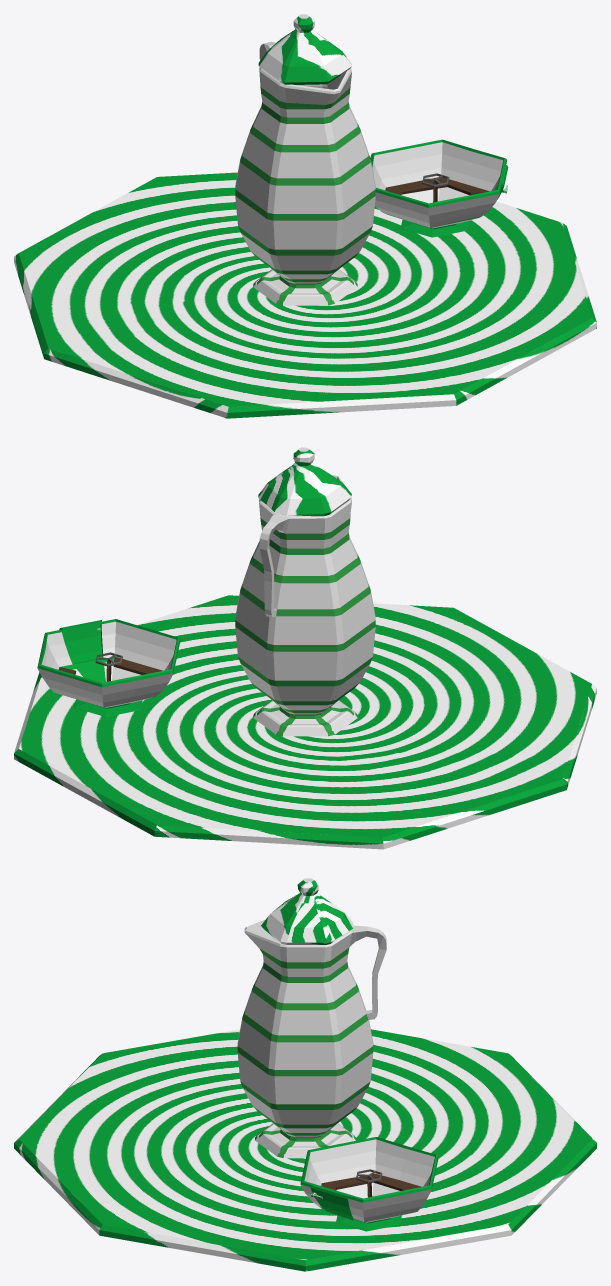
File: Cups.fbx
3 views of the same model, one above another, from view 1: azimuth 30°, elevation 25°; view 2: azimuth 150°, elevation 25°; view 3: azimuth 270°, elevation 25° (orthographic). The views are drawn at different scales.
Parts seen in each view (by area): view 1: Circle, Circle.003, Circle.004; view 2: Circle, Circle.003, Circle.004; view 3: Circle, Circle.003, Circle.004.
Boxes of the visible parts, box(x1,y1,x2,y2) form: Circle: box(14, 172, 596, 418); Circle.003: box(235, 14, 375, 305); Circle.004: box(370, 139, 508, 237); Circle: box(14, 595, 596, 849); Circle.003: box(235, 447, 375, 736); Circle.004: box(37, 619, 180, 716); Circle: box(14, 1029, 596, 1271); Circle.003: box(237, 878, 386, 1158); Circle.004: box(300, 1137, 438, 1231).
Size of the model in its own units: 1400 by 1400 by 711.
5 materials, 1 textured.
